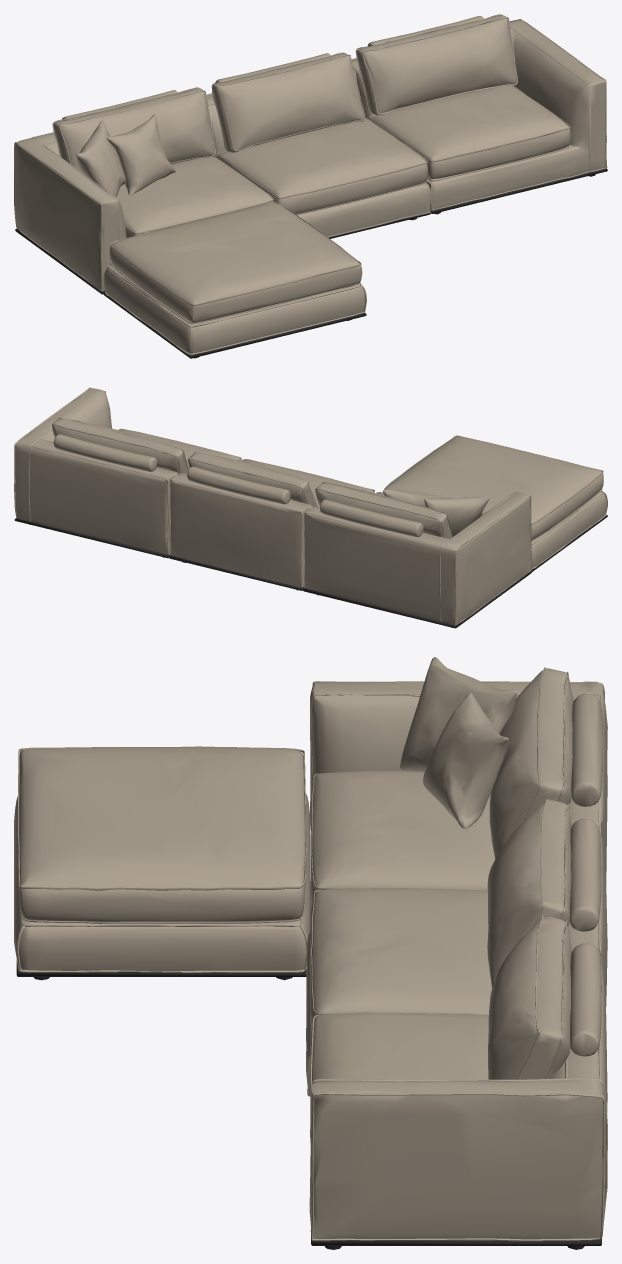
Rendered from bella-3d-deep-seat-sectional.glb.
3 renders of one model, top to bottom at view 1: azimuth 30°, elevation 25°; view 2: azimuth 150°, elevation 25°; view 3: azimuth 270°, elevation 25°, orthographic. The views are drawn at different scales.
Visible parts, largest first — view 1: deep-seat-sectional-4, deep-seat-sectional-20; view 2: deep-seat-sectional-4, deep-seat-sectional-20; view 3: deep-seat-sectional-4, deep-seat-sectional-20.
Part boxes in pixels (x1,y1,x2,y2): deep-seat-sectional-4: (14, 14, 607, 354); deep-seat-sectional-20: (15, 168, 607, 358); deep-seat-sectional-4: (14, 387, 607, 625); deep-seat-sectional-20: (14, 515, 607, 628); deep-seat-sectional-4: (14, 657, 607, 1241); deep-seat-sectional-20: (16, 962, 601, 1249).
Bounding box in the file's own units: 3.46 × 0.7793 × 2.08.
